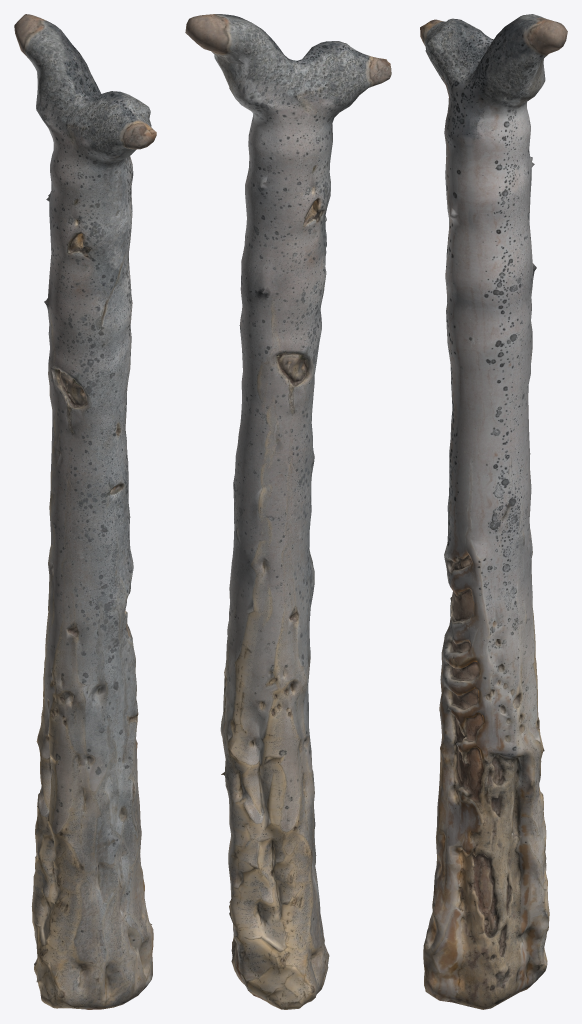
The model's file is bg_dead_quiver_trunk.glb.
3 renders of one model, left to right at view 1: azimuth 90°, elevation 25°; view 2: azimuth 150°, elevation 25°; view 3: azimuth 270°, elevation 25°, orthographic. The views are drawn at different scales.
Parts seen in each view (by area): view 1: bg_dead_quiver_trunk; view 2: bg_dead_quiver_trunk; view 3: bg_dead_quiver_trunk.
Boxes of the visible parts, left/top/right/bottom form: bg_dead_quiver_trunk: left=14, top=14, right=156, bottom=1009; bg_dead_quiver_trunk: left=185, top=14, right=391, bottom=1009; bg_dead_quiver_trunk: left=420, top=14, right=567, bottom=1009.
Size of the model in its own units: 0.6157 by 4 by 0.5375.
1 material, 1 textured.
